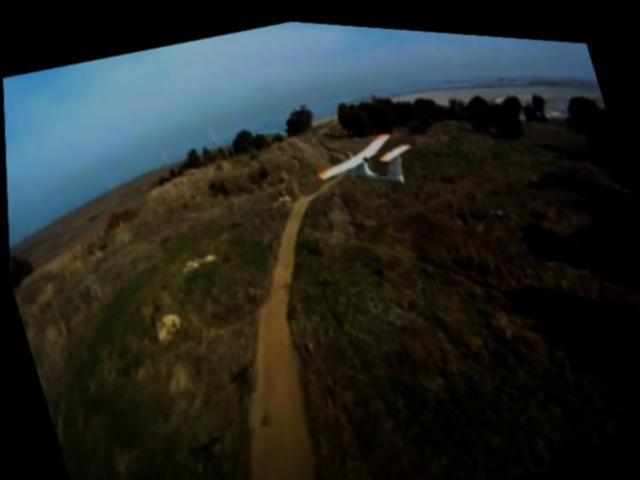uav: (300, 103, 425, 218)
